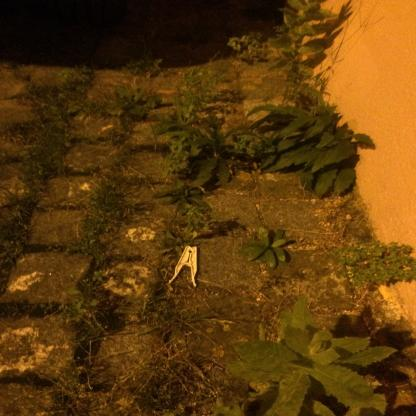trash: (165, 243, 202, 290)
